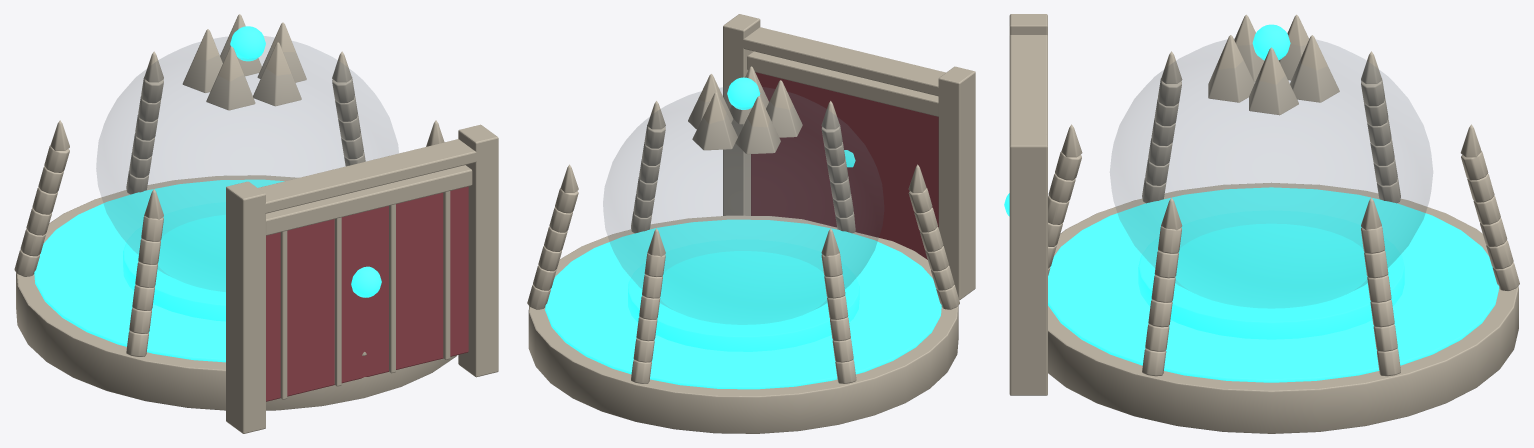
The model's file is MonsterHub_VEX_Hatchery.glb.
The picture shows the model from 3 angles, left to right: view 1: azimuth 30°, elevation 25°; view 2: azimuth 150°, elevation 25°; view 3: azimuth 270°, elevation 25°; orthographic projection. The views are drawn at different scales.
Parts seen in each view (by area): view 1: MonsterHub_VEX_Hatchery, MonsterHub_VEX_Hatchery_Gate; view 2: MonsterHub_VEX_Hatchery, MonsterHub_VEX_Hatchery_Gate; view 3: MonsterHub_VEX_Hatchery.
Boxes of the visible parts, <box> form: MonsterHub_VEX_Hatchery: <box>14,14,498,433</box>; MonsterHub_VEX_Hatchery_Gate: <box>266,165,472,401</box>; MonsterHub_VEX_Hatchery: <box>527,14,975,433</box>; MonsterHub_VEX_Hatchery_Gate: <box>747,51,938,259</box>; MonsterHub_VEX_Hatchery: <box>1009,14,1519,433</box>.
Size of the model in its own units: 5.2 by 3.52 by 5.42.
